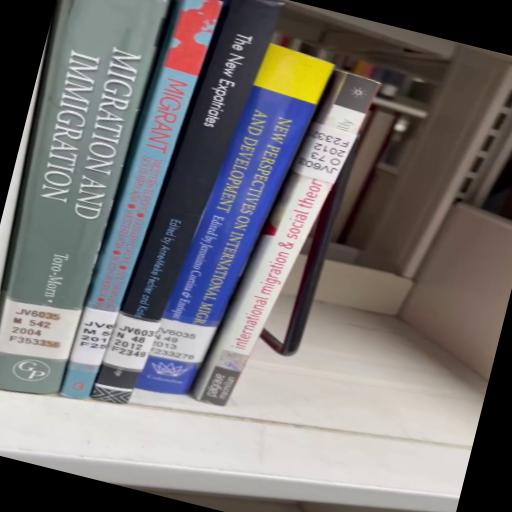reverse: (193, 72, 380, 407)
